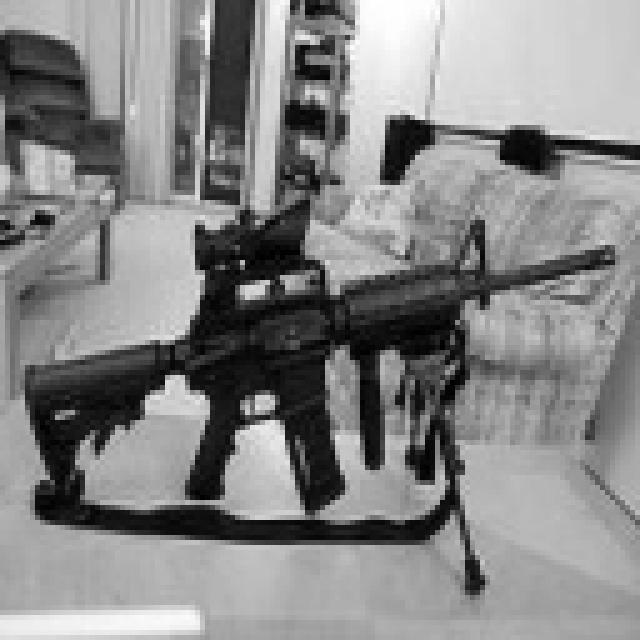Rifle: (18, 180, 620, 616)
